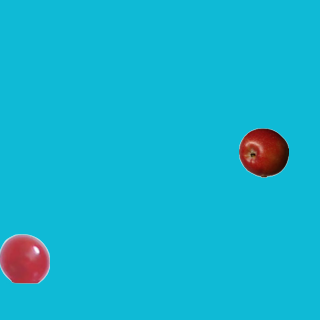Apple Braeburn: (238, 127, 288, 177)
Redcurrant: (0, 233, 49, 283)
